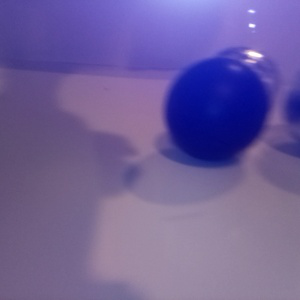alive_ball: (206, 47, 278, 118)
dead_ball: (163, 58, 268, 160), (284, 81, 300, 140)
